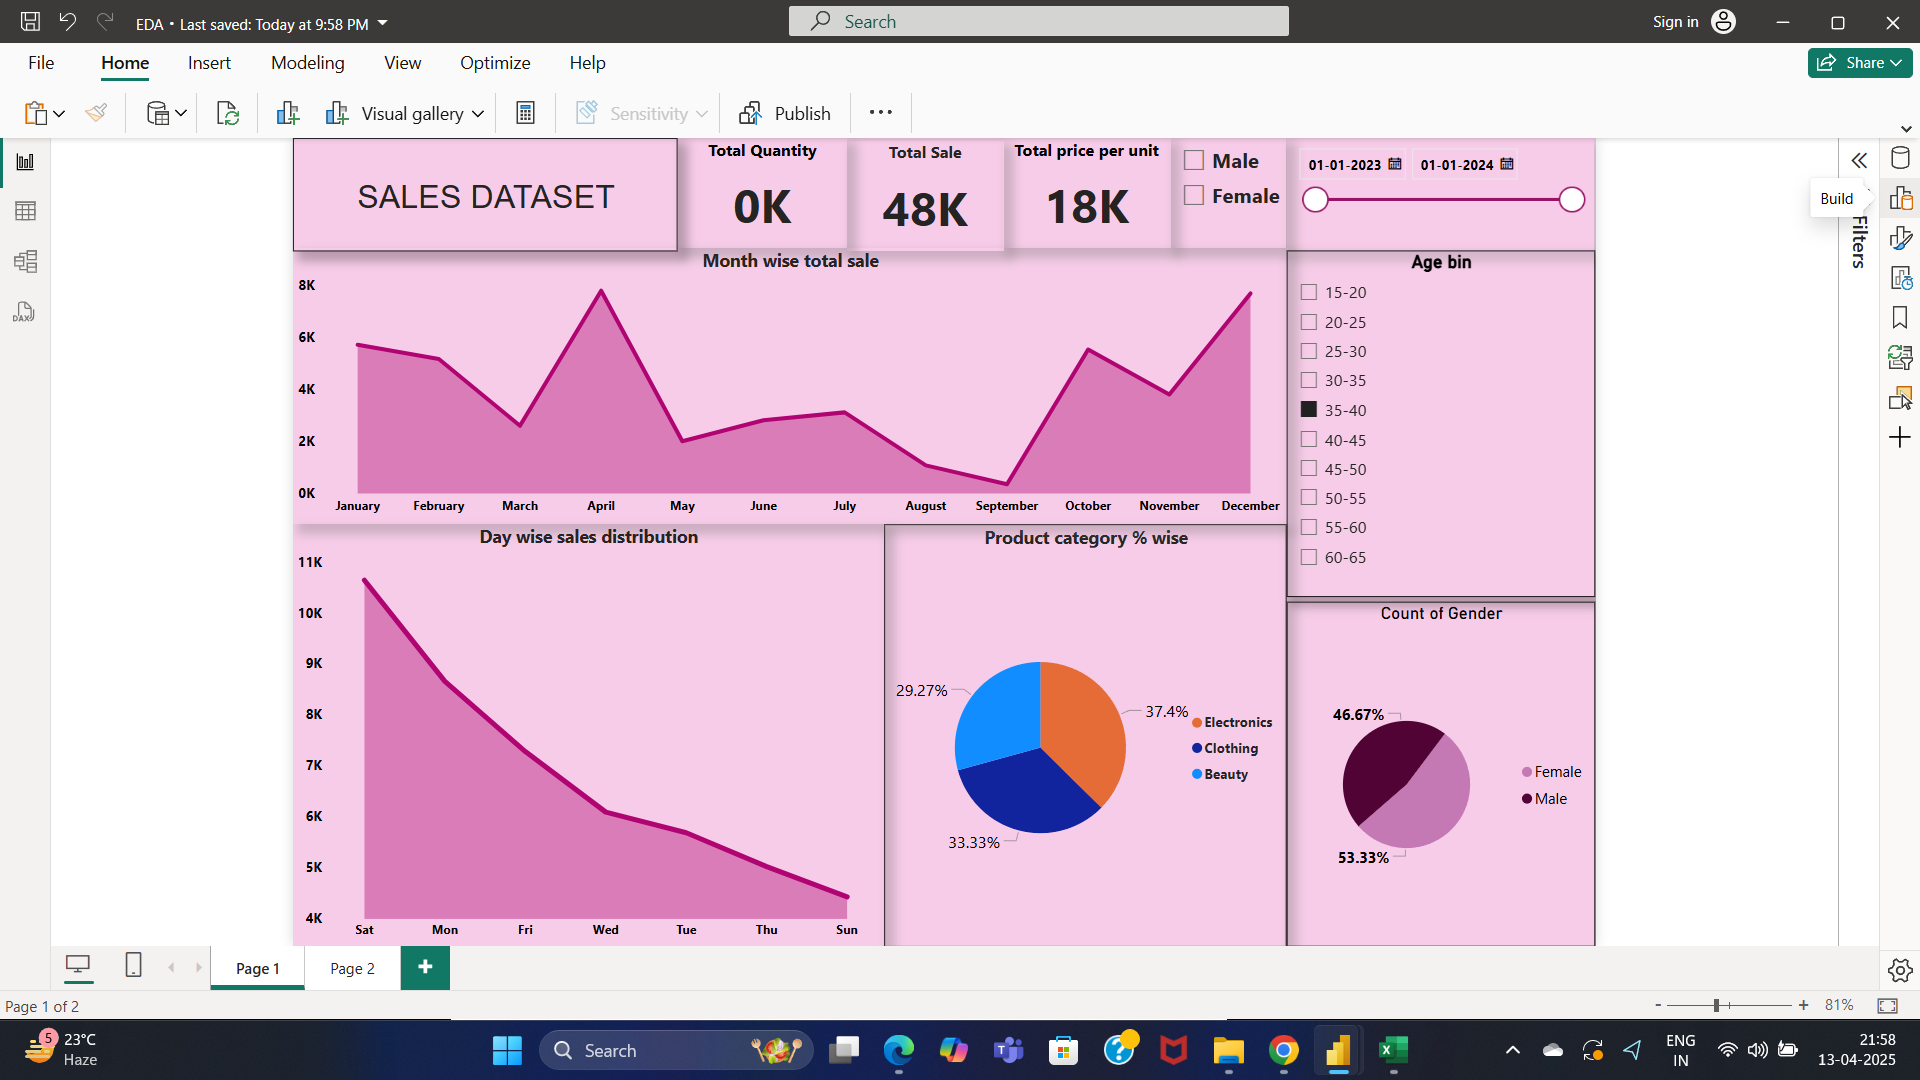

The dashboard page shown, as its layout file describes it:
{"tool":"powerbi","page":{"name":"Page 1","canvas":[1287,799],"ordinal":0},"visuals":[{"type":"card","title":"Total Quantity","fields":{"Values":["Sum(aaa.Quantity)"]},"box":[380.1,0,166.8,108.8],"z":0},{"type":"card","title":"Total Sale","fields":{"Values":["Sum(aaa.Total Amount)"]},"box":[546.9,2.9,155.2,108.8],"z":1000},{"type":"card","title":"Total price per unit","fields":{"Values":["Sum(aaa.Price per Unit)"]},"box":[702.1,0,165.4,108.8],"z":2000},{"type":"slicer","fields":{"Values":["aaa.Gender"]},"box":[867.5,0,114.6,108.8],"z":3000},{"type":"pieChart","title":"Product category % wise","fields":{"Category":["aaa.Product Category"],"Y":["Sum(aaa.Quantity)"]},"box":[584.6,381.5,397.5,417.8],"z":4000},{"type":"lineChart","title":"Month wise total sale","fields":{"Category":["aaa.Date.Variation.Date Hierarchy.Month"],"Y":["Sum(aaa.Total Amount)"]},"box":[0,108.8,983.5,272.7],"z":5000},{"type":"lineChart","title":"Day wise sales distribution","fields":{"Category":["aaa.weekday"],"Y":["Sum(aaa.Total sales)"]},"box":[0,381.5,584.6,419.2],"z":6000},{"type":"slicer","fields":{"Values":["aaa.Date"]},"box":[982.1,0,303.2,111.7],"z":7000},{"type":"pieChart","title":"Count of Gender","fields":{"Category":["aaa.Gender"],"Y":["CountNonNull(aaa.Gender)"]},"box":[982.1,458.4,304.6,340.9],"z":8000},{"type":"slicer","title":"Age bin","fields":{"Values":["aaa.Age Bin"]},"box":[982.1,111.7,304.6,342.4],"z":9000},{"type":"textbox","box":[0,0,380.1,111.7],"z":10000}]}

Visuals, with their boxes on the page's 1287x799 design canvas (x1, y1, x2, y2). These are canvas units, not pixel positions in the 1920x1080 screenshot, which may show the page scaled, cropped or inside an application window:
"Total Quantity" card: region(380, 0, 547, 109)
"Total Sale" card: region(547, 3, 702, 112)
"Total price per unit" card: region(702, 0, 868, 109)
slicer - aaa.Gender: region(868, 0, 982, 109)
"Product category % wise" pieChart: region(585, 382, 982, 799)
"Month wise total sale" lineChart: region(0, 109, 984, 382)
"Day wise sales distribution" lineChart: region(0, 382, 585, 801)
slicer - aaa.Date: region(982, 0, 1285, 112)
"Count of Gender" pieChart: region(982, 458, 1287, 799)
"Age bin" slicer: region(982, 112, 1287, 454)
textbox: region(0, 0, 380, 112)
